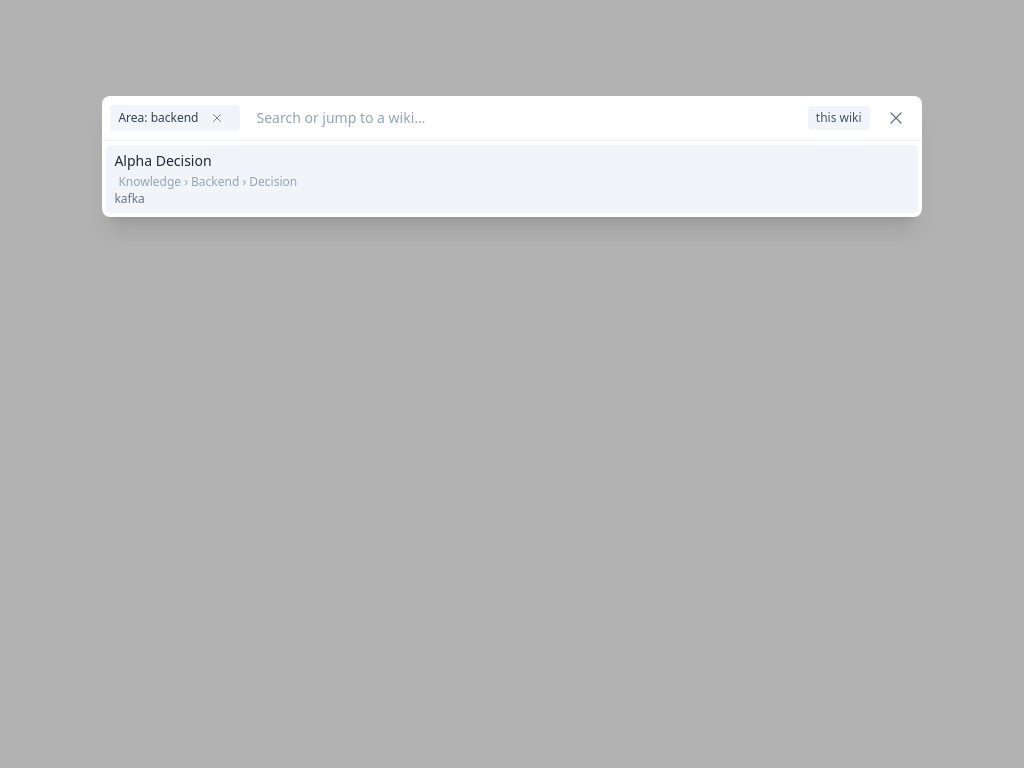
Scenario: an initial facet filter searches with no free text and is removable
Expected: the text "Area: backend" is shown, [110,105,240,131]
Expected: the text "Alpha Decision" is shown, [114,151,212,171]
Click the button named "remove Area: backend" at (218, 118), box [202,107,232,129]
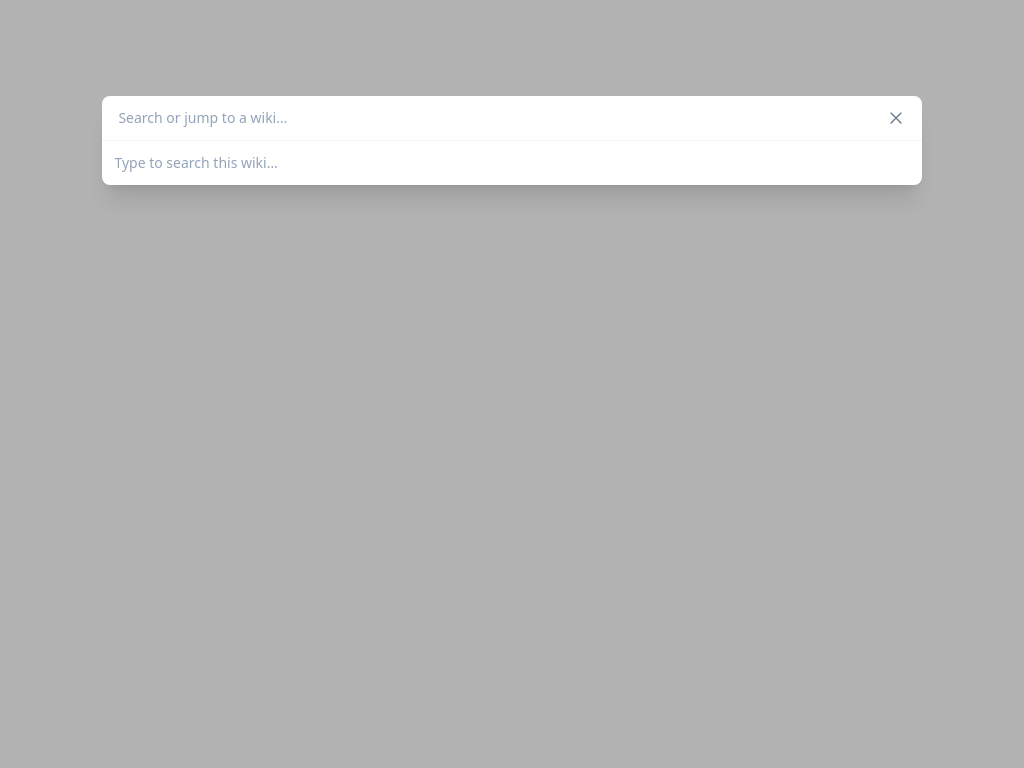
Now the text "Area: backend" is gone
